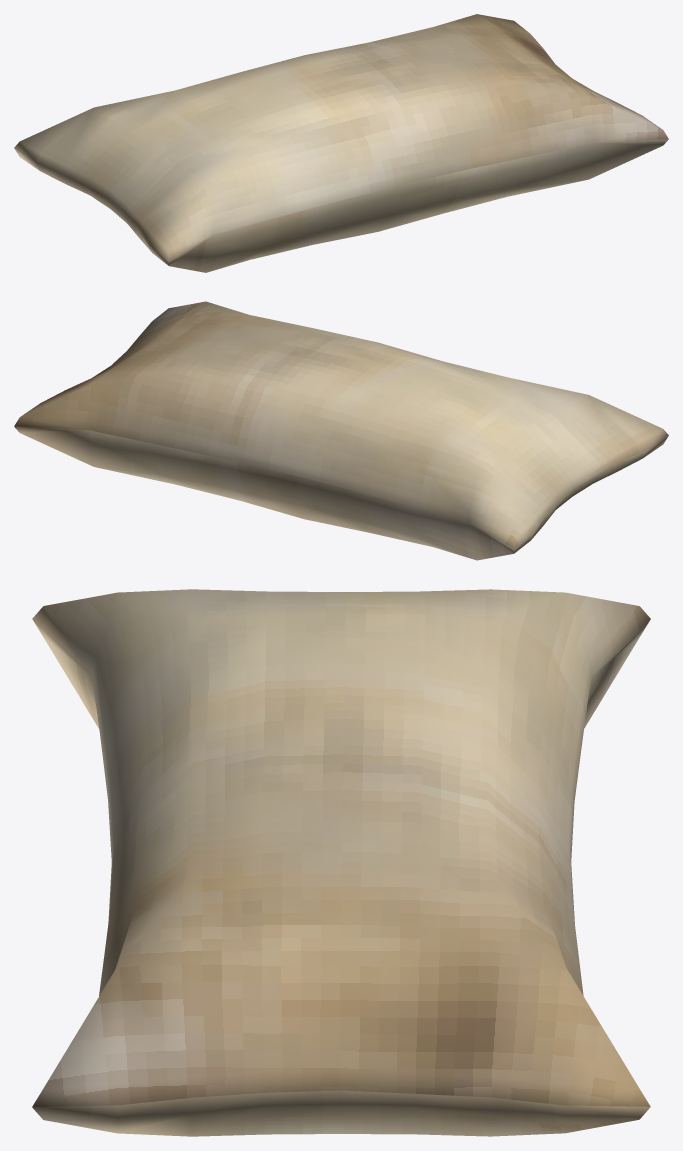
The model's file is pillow.obj.
The picture shows the model from 3 angles, top to bottom: view 1: azimuth 30°, elevation 25°; view 2: azimuth 150°, elevation 25°; view 3: azimuth 270°, elevation 25°; orthographic projection. The views are drawn at different scales.
Visible parts, largest first — view 1: pillow; view 2: pillow; view 3: pillow.
Boxes of the visible parts, x1,y1,x2,y2 form: pillow: (14,14,668,272); pillow: (14,301,668,560); pillow: (32,589,650,1136).
Size of the model in its own units: 0.7735 by 0.2083 by 0.4144.
